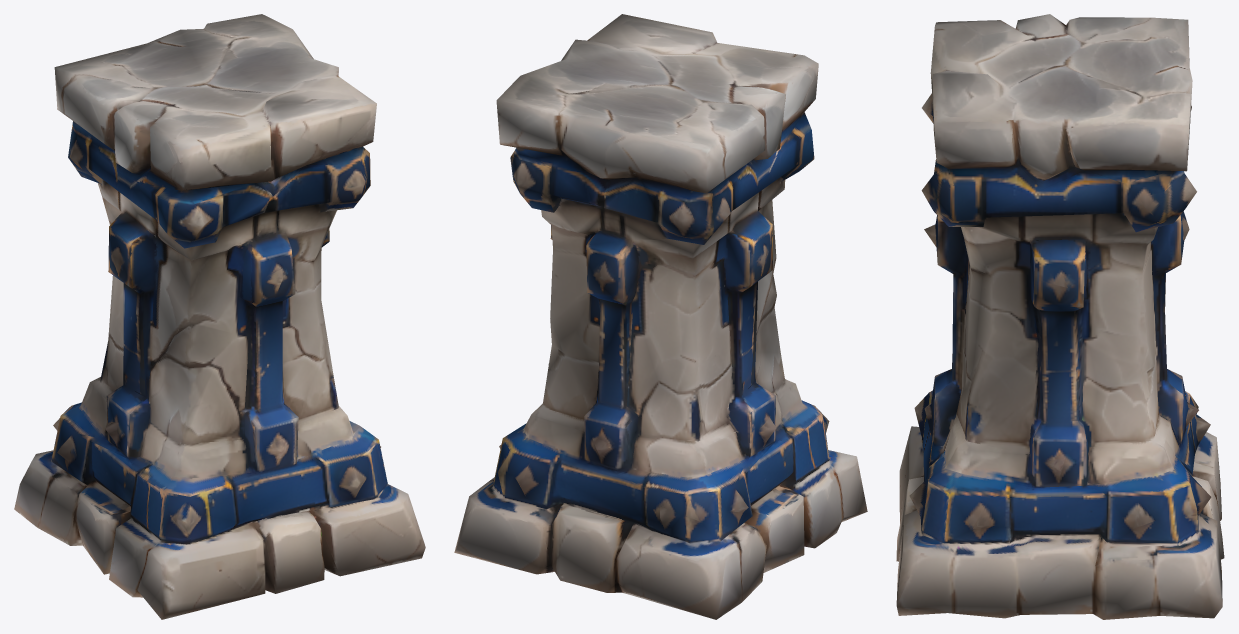
Rendered from ruins-reinforced-pillar_LOD1.glb.
The picture shows the model from 3 angles, left to right: view 1: azimuth 30°, elevation 25°; view 2: azimuth 150°, elevation 25°; view 3: azimuth 270°, elevation 25°; orthographic projection. The views are drawn at different scales.
Parts seen in each view (by area): view 1: ruins-reinforced-pillar_LOD1; view 2: ruins-reinforced-pillar_LOD1; view 3: ruins-reinforced-pillar_LOD1.
Boxes of the visible parts, x1,y1,x2,y2 form: ruins-reinforced-pillar_LOD1: (14, 14, 425, 619); ruins-reinforced-pillar_LOD1: (454, 14, 867, 619); ruins-reinforced-pillar_LOD1: (896, 14, 1224, 619).
Bounding box in the file's own units: 1.23 × 2.01 × 1.23.
Materials: 1 (1 with a texture image).
